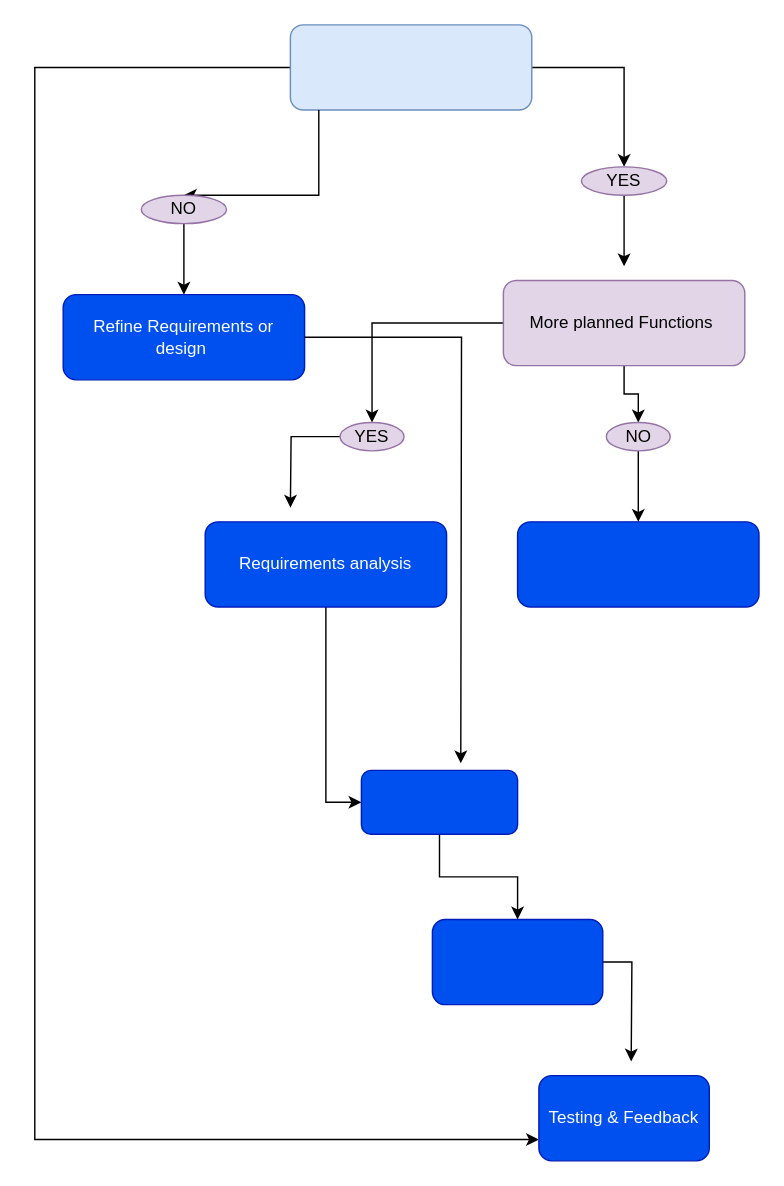
The diagram is 784 pixels wide and 1186 high, and some of its shapes have lost their labels. Here are the shapes that lost their labels. From the top down, the centre of each, then its label:
At [410,66]: "Meets Iteration Criteria?".
At [637,563]: "Final prototype evaluation".
At [439,801]: "Design".
At [517,961]: "Implementation".
